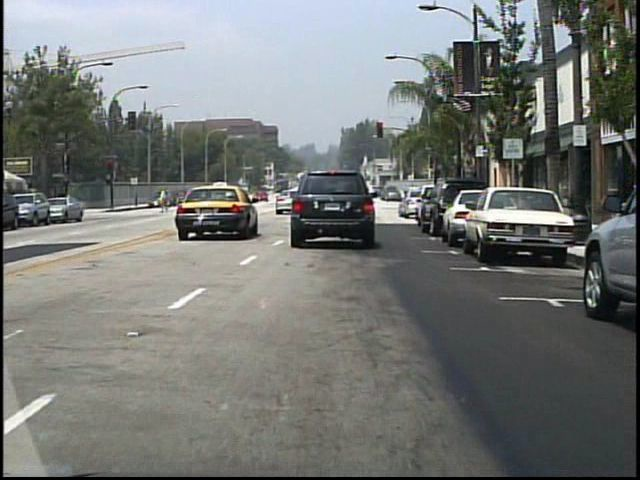person: (361, 186, 378, 216), (157, 188, 172, 215)
